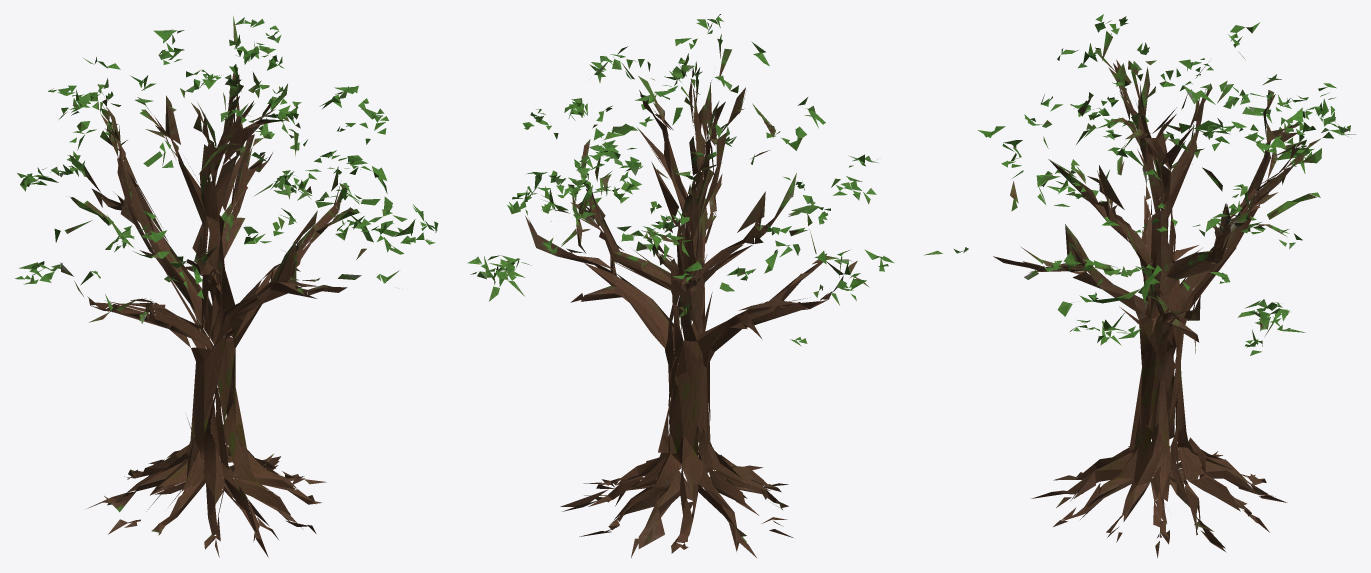
The picture shows the model from 3 angles, left to right: view 1: azimuth 30°, elevation 25°; view 2: azimuth 150°, elevation 25°; view 3: azimuth 270°, elevation 25°; orthographic projection. The views are drawn at different scales.
Parts seen in each view (by area): view 1: Mesh_0; view 2: Mesh_0; view 3: Mesh_0.
Boxes of the visible parts, x1,y1,x2,y2 form: Mesh_0: (15, 16, 438, 557); Mesh_0: (467, 14, 894, 557); Mesh_0: (924, 14, 1355, 557).
Size of the model in its own units: 1.43 by 1.71 by 1.37.
Materials: 1 (1 with a texture image).
